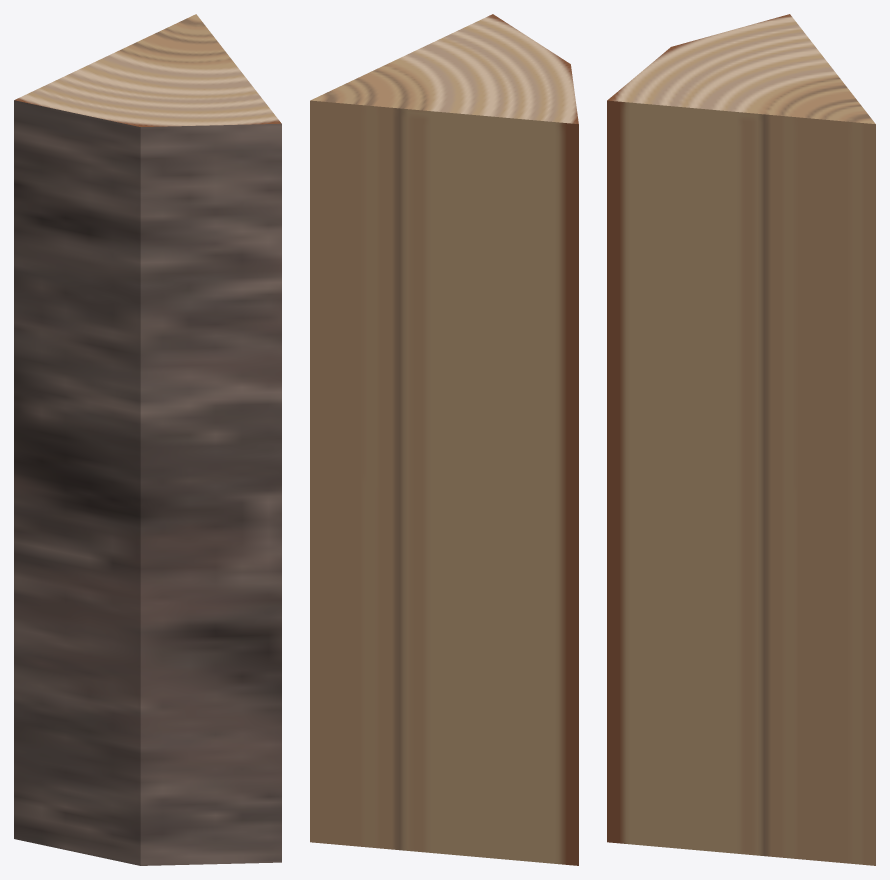
Rendered from small-log.glb.
3 renders of one model, left to right at view 1: azimuth 30°, elevation 25°; view 2: azimuth 150°, elevation 25°; view 3: azimuth 270°, elevation 25°, orthographic.
Parts seen in each view (by area): view 1: Cylinder; view 2: Cylinder; view 3: Cylinder.
Boxes of the visible parts, x1,y1,x2,y2 form: Cylinder: (14, 14, 281, 865); Cylinder: (310, 14, 578, 865); Cylinder: (607, 14, 875, 865).
Bounding box in the file's own units: 0.5722 × 1.8 × 0.5898.
Materials: 3 (3 with a texture image).
